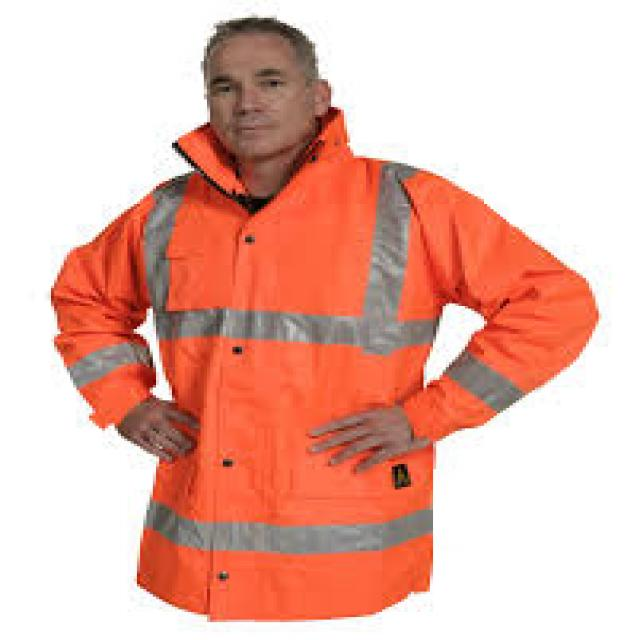Jacket: (87, 118, 537, 592)
